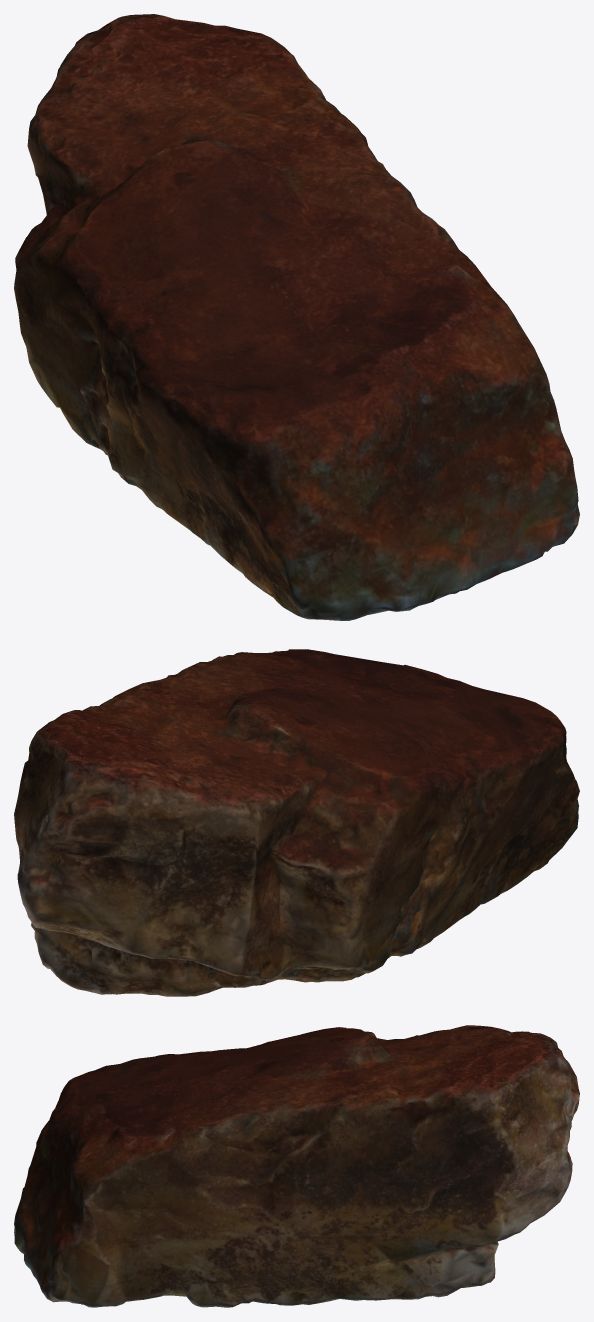
File: rock_07.glb
The picture shows the model from 3 angles, top to bottom: view 1: azimuth 30°, elevation 25°; view 2: azimuth 150°, elevation 25°; view 3: azimuth 270°, elevation 25°; orthographic projection. The views are drawn at different scales.
Visible parts, largest first — view 1: rock_07; view 2: rock_07; view 3: rock_07.
Boxes of the visible parts, x1,y1,x2,y2 form: rock_07: (14, 14, 579, 620); rock_07: (14, 649, 579, 996); rock_07: (14, 1025, 579, 1307).
Bounding box in the file's own units: 0.1689 × 0.1437 × 0.3203.
Materials: 1 (1 with a texture image).
